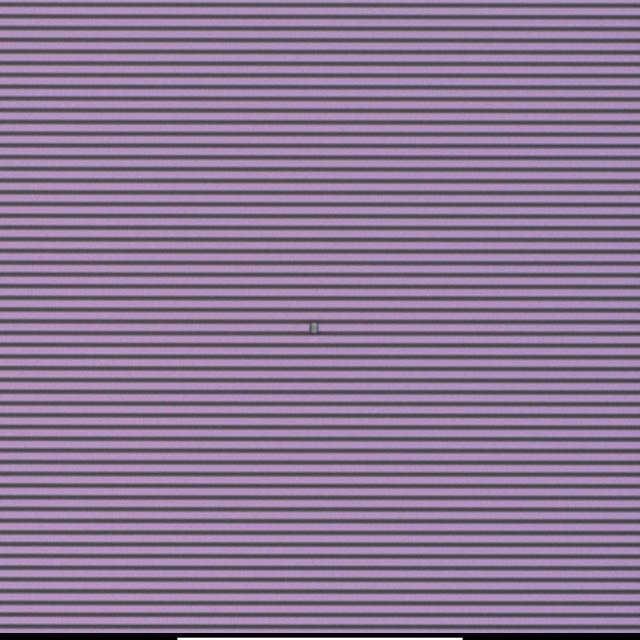03_intrusion: (304, 319, 326, 337)
